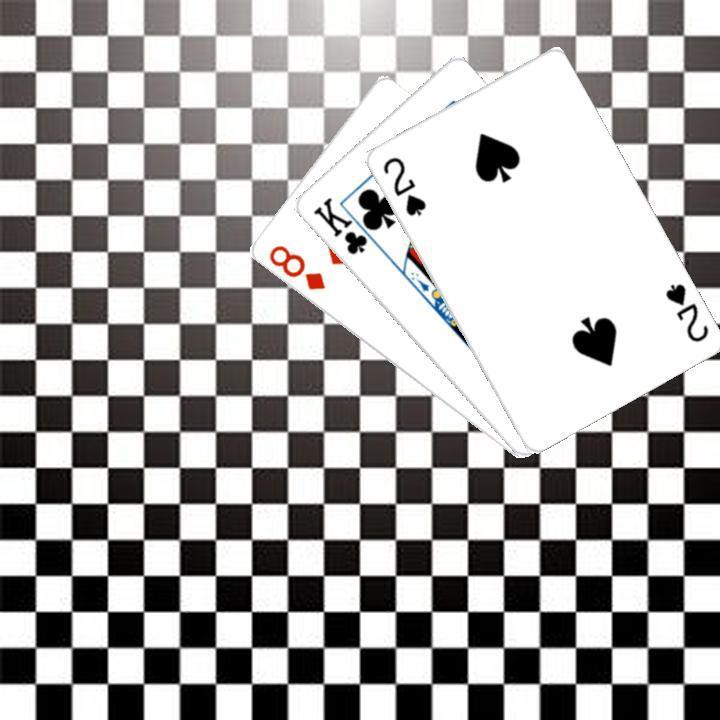2: (660, 278, 710, 345), (378, 152, 428, 218)
8: (263, 240, 327, 293)
K: (308, 192, 382, 257)
